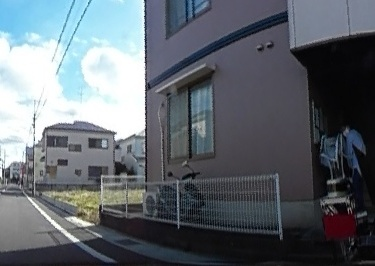person: (339, 116, 375, 211)
